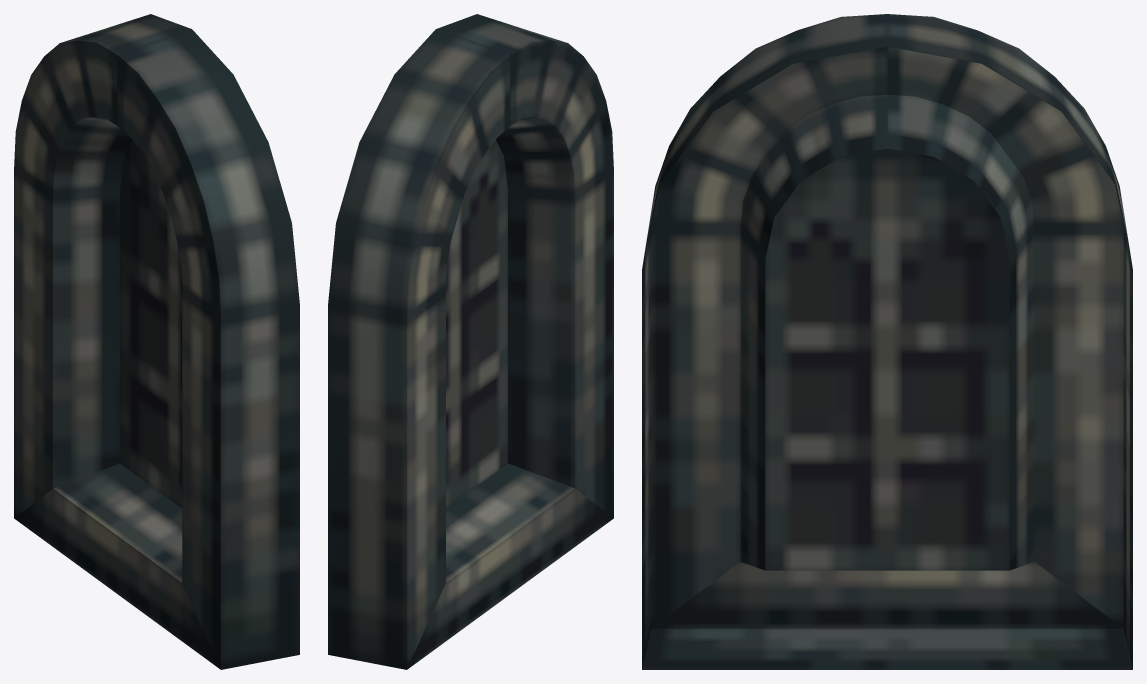
File: EnvMdrMD_Daiseidou_B_Window_Room_A.FBX
3 renders of one model, left to right at view 1: azimuth 30°, elevation 25°; view 2: azimuth 150°, elevation 25°; view 3: azimuth 270°, elevation 25°, orthographic. The views are drawn at different scales.
Parts seen in each view (by area): view 1: EnvMdrMD_Daiseidou_B_Window_Room_A; view 2: EnvMdrMD_Daiseidou_B_Window_Room_A; view 3: EnvMdrMD_Daiseidou_B_Window_Room_A.
Boxes of the visible parts, x1,y1,x2,y2 form: EnvMdrMD_Daiseidou_B_Window_Room_A: (14,14,299,669); EnvMdrMD_Daiseidou_B_Window_Room_A: (328,14,613,669); EnvMdrMD_Daiseidou_B_Window_Room_A: (642,14,1132,669).
Bounding box in the file's own units: 20 × 140 × 100.
Materials: 1 (1 with a texture image).
